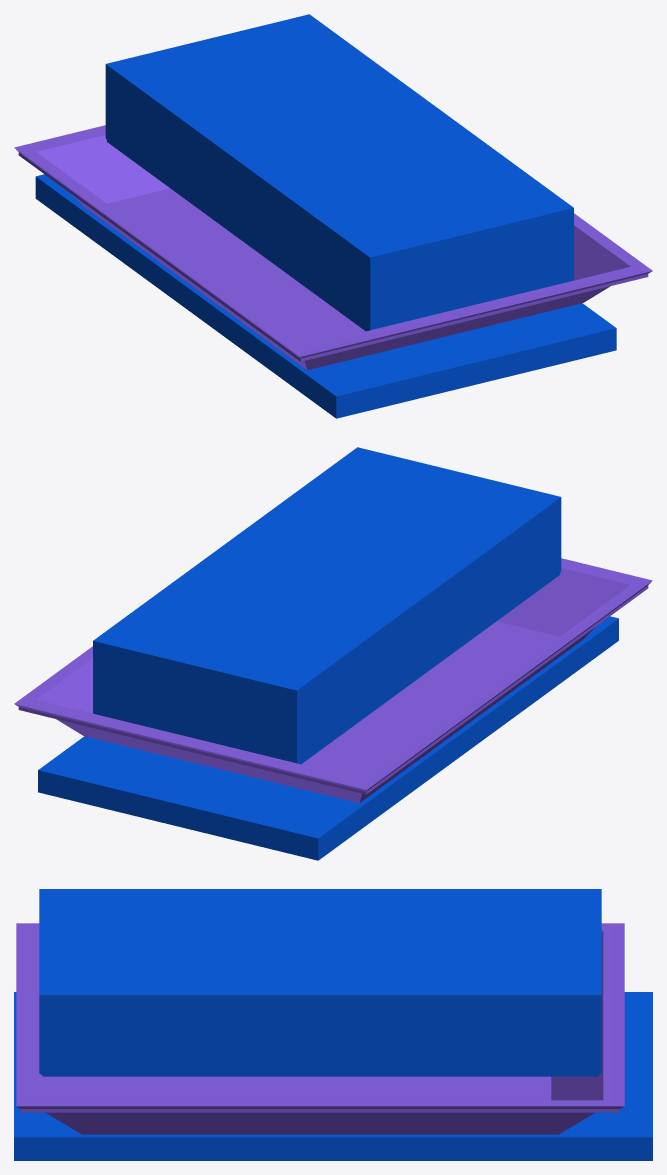
The model's file is Wadah_Terpisah.fbx.
3 views of the same model, one above another, from view 1: azimuth 30°, elevation 25°; view 2: azimuth 150°, elevation 25°; view 3: azimuth 270°, elevation 25° (orthographic). The views are drawn at different scales.
Parts seen in each view (by area): view 1: Wadah Terpisah; view 2: Wadah Terpisah; view 3: Wadah Terpisah.
Part boxes in pixels (x1,y1,x2,y2): Wadah Terpisah: [14, 14, 652, 418]; Wadah Terpisah: [14, 447, 652, 860]; Wadah Terpisah: [14, 889, 652, 1160].
Size of the model in its own units: 307 by 117 by 452.
